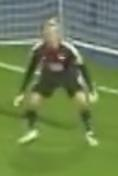goalkeeper: (12, 8, 118, 163)
